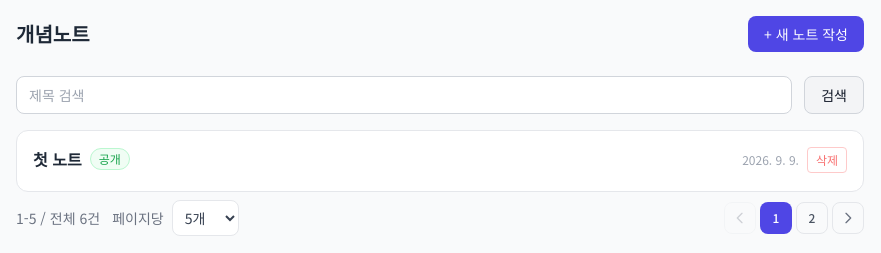
it: 개념노트 서버 목록 › 마지막 페이지 항목 삭제 후 서버 건수에 따라 이전 페이지로 돌아간다
Expected: the heading "첫 노트" is shown, top-left (33, 147), bottom-right (82, 171)
Click the button named "다음 페이지": (848, 218) top-left (832, 202), bottom-right (864, 234)
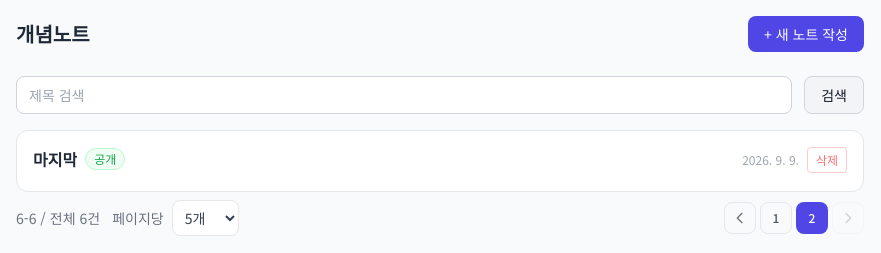
Expected: the heading "마지막" is shown, top-left (33, 147), bottom-right (77, 171)
Click the button "삭제": (827, 160) top-left (807, 147), bottom-right (847, 173)
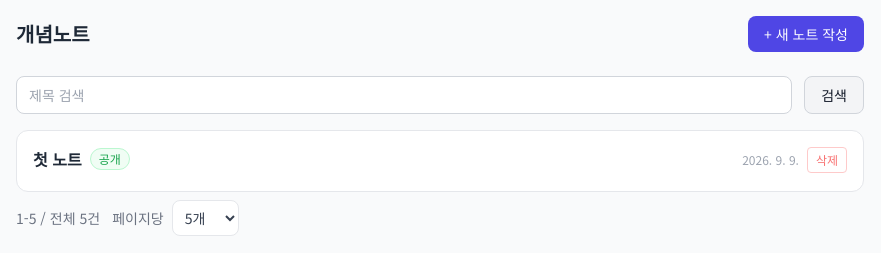
Expected: the heading "첫 노트" is shown, top-left (33, 147), bottom-right (82, 171)
